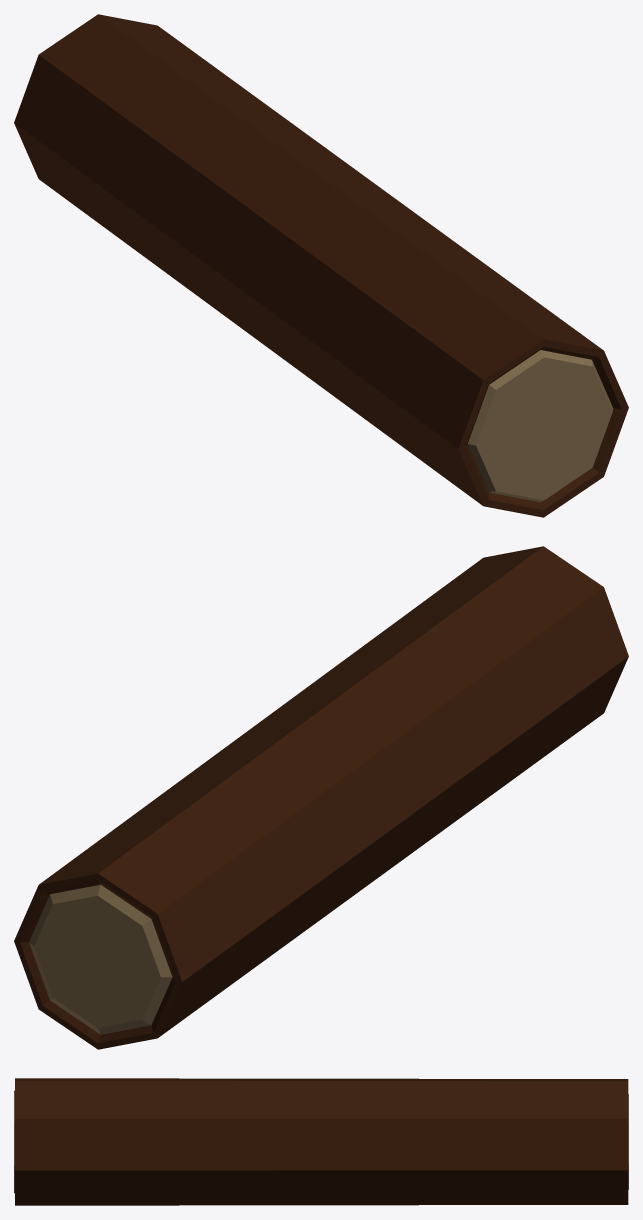
The model's file is Log.fbx.
The picture shows the model from 3 angles, top to bottom: view 1: azimuth 30°, elevation 25°; view 2: azimuth 150°, elevation 25°; view 3: azimuth 270°, elevation 25°; orthographic projection. The views are drawn at different scales.
Parts seen in each view (by area): view 1: Cylinder; view 2: Cylinder; view 3: Cylinder.
Boxes of the visible parts, bbox=[...] form: Cylinder: bbox=[14, 14, 628, 517]; Cylinder: bbox=[14, 546, 628, 1049]; Cylinder: bbox=[14, 1078, 628, 1205].
Bounding box in the file's own units: 328 × 328 × 1486.
